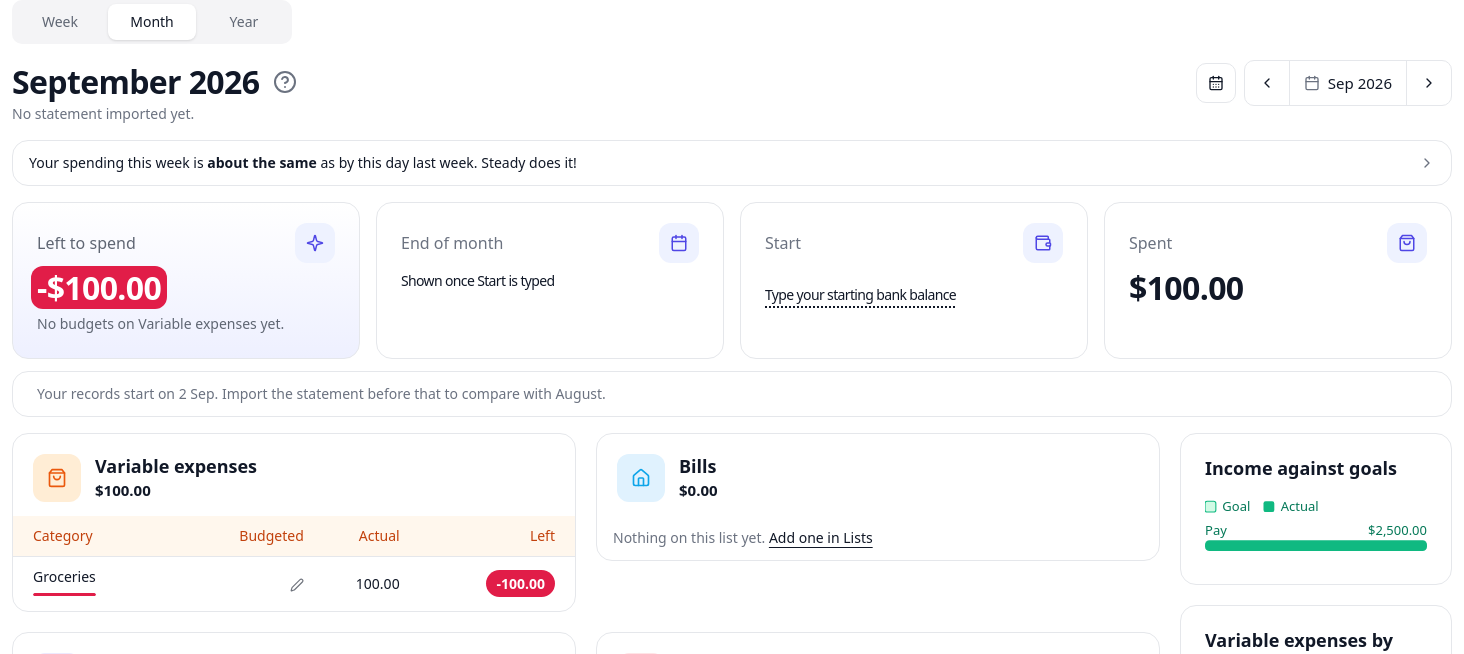
Test: Typing the starting balance on the Month › types an overdrawn start with the tick box, and opens one again that way
This screenshot has width=1464, height=654.
Click the button with aria-label "Starting balance for September, " at [860, 293], box [765,281,956,304]
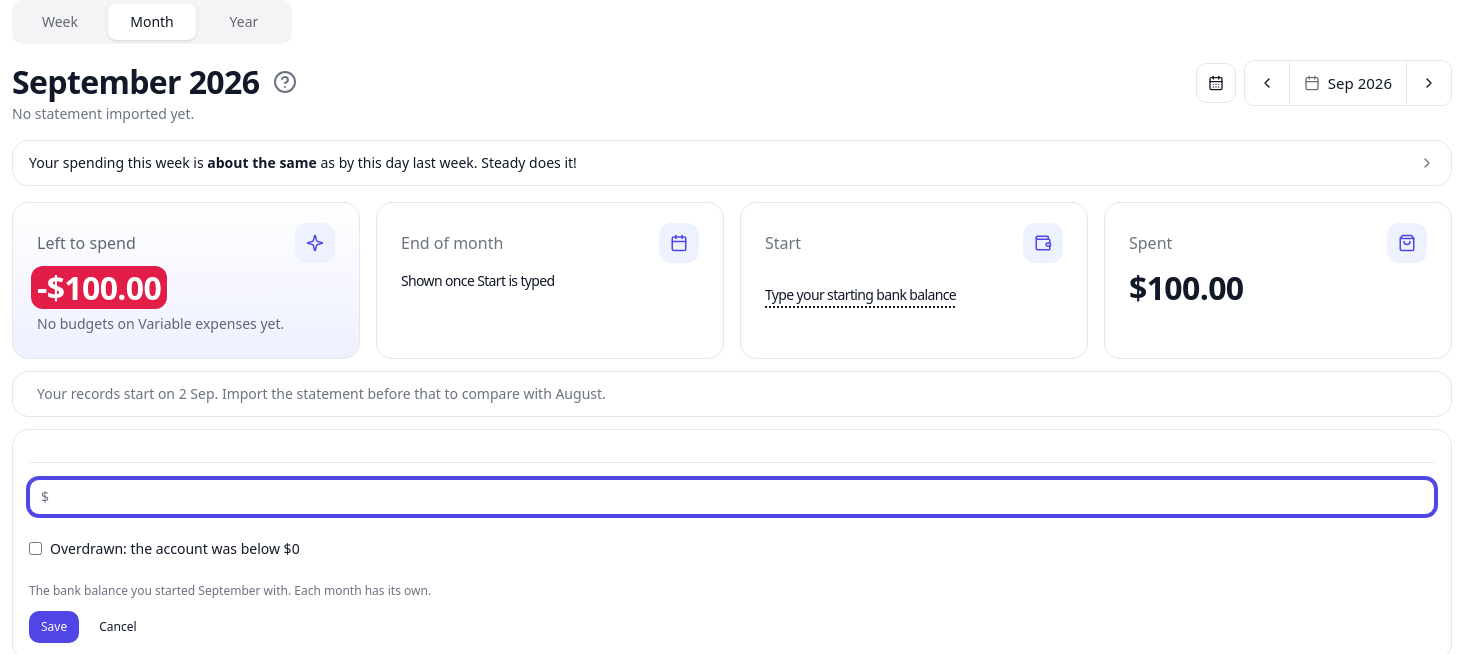
Type "150" into the field named "Starting bank balance for September" at [732, 497], box [29,479,1435,515]
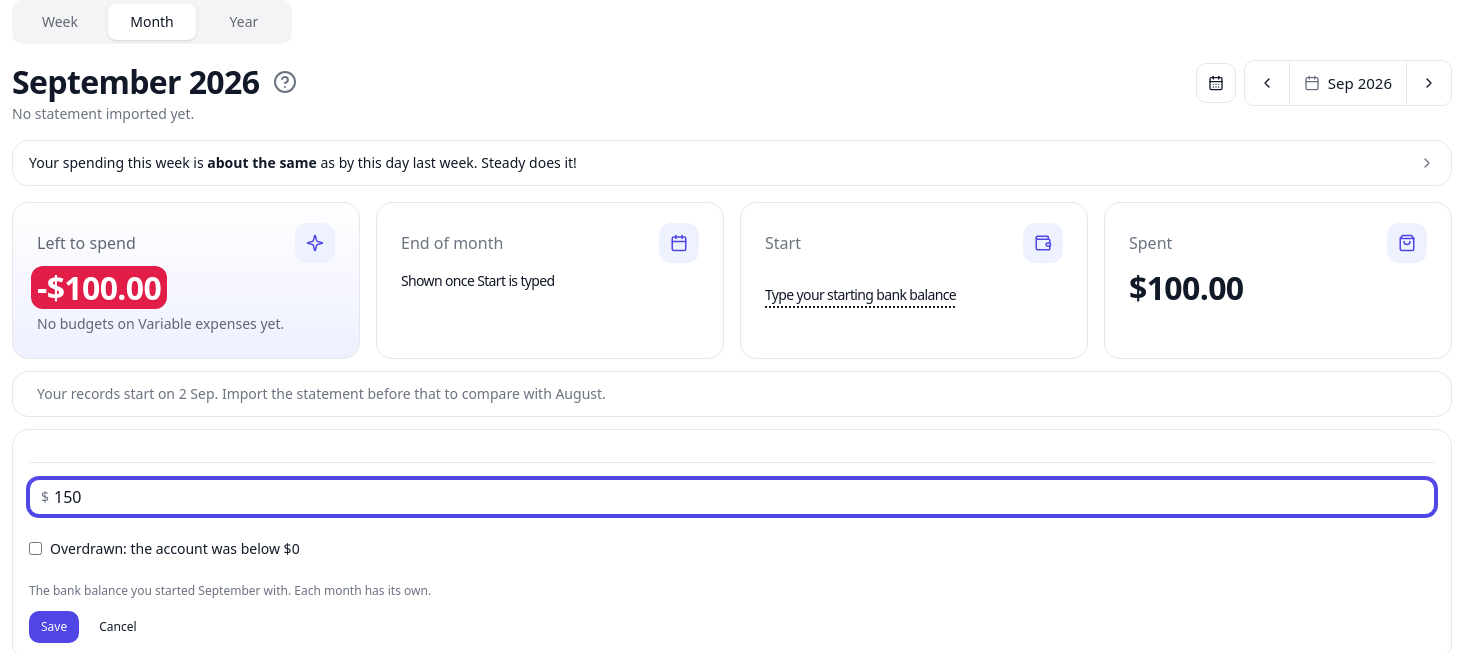
Click the checkbox labelled "Overdrawn: the account was below $0" at [36, 549], box [29,542,42,555]
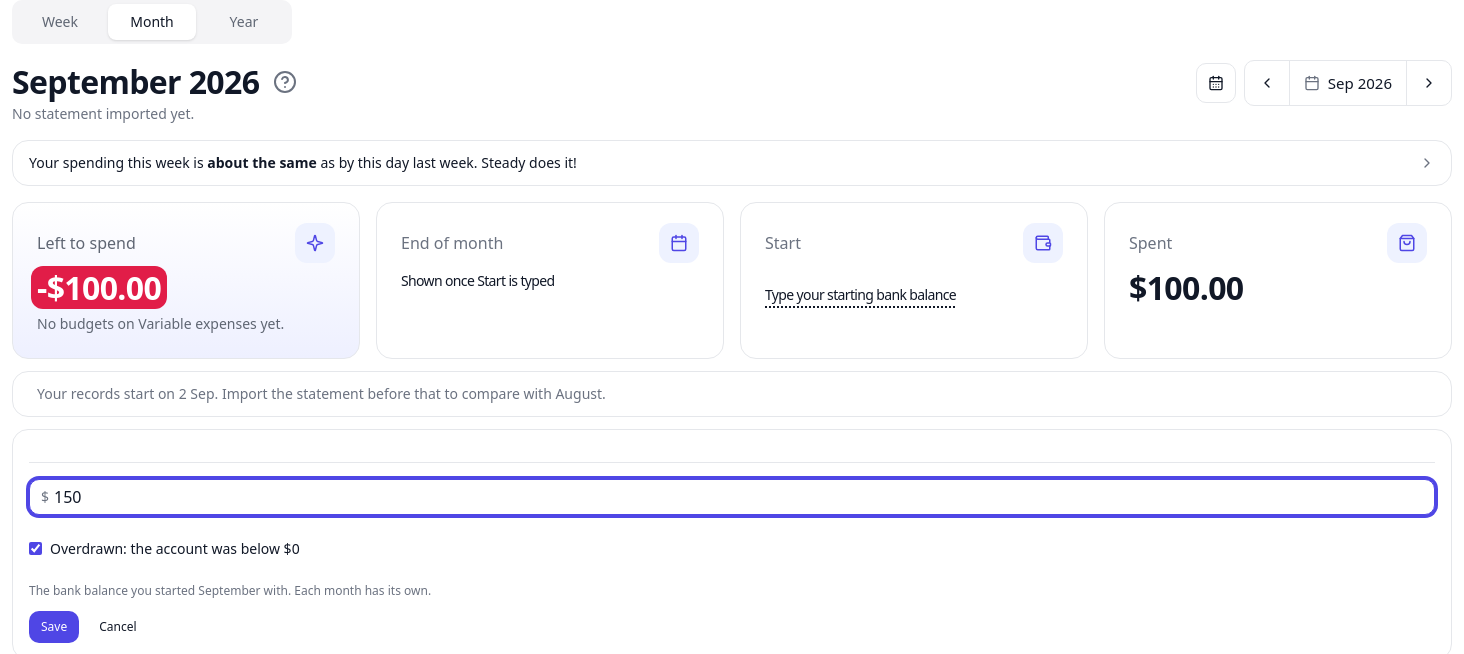
Click the button "Save" at [54, 627], box [29,611,79,643]
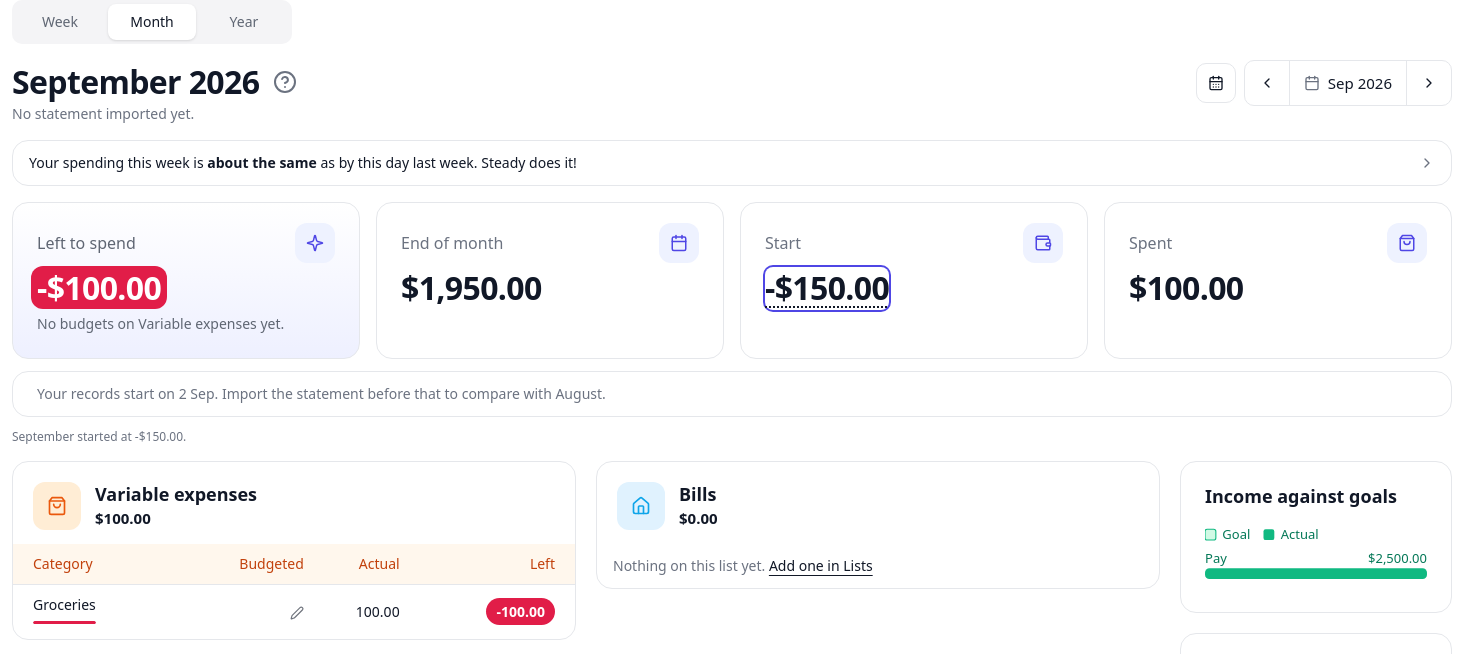
Click the button named "Starting balance for September, -$150.00" at [827, 288], box [765,267,889,310]
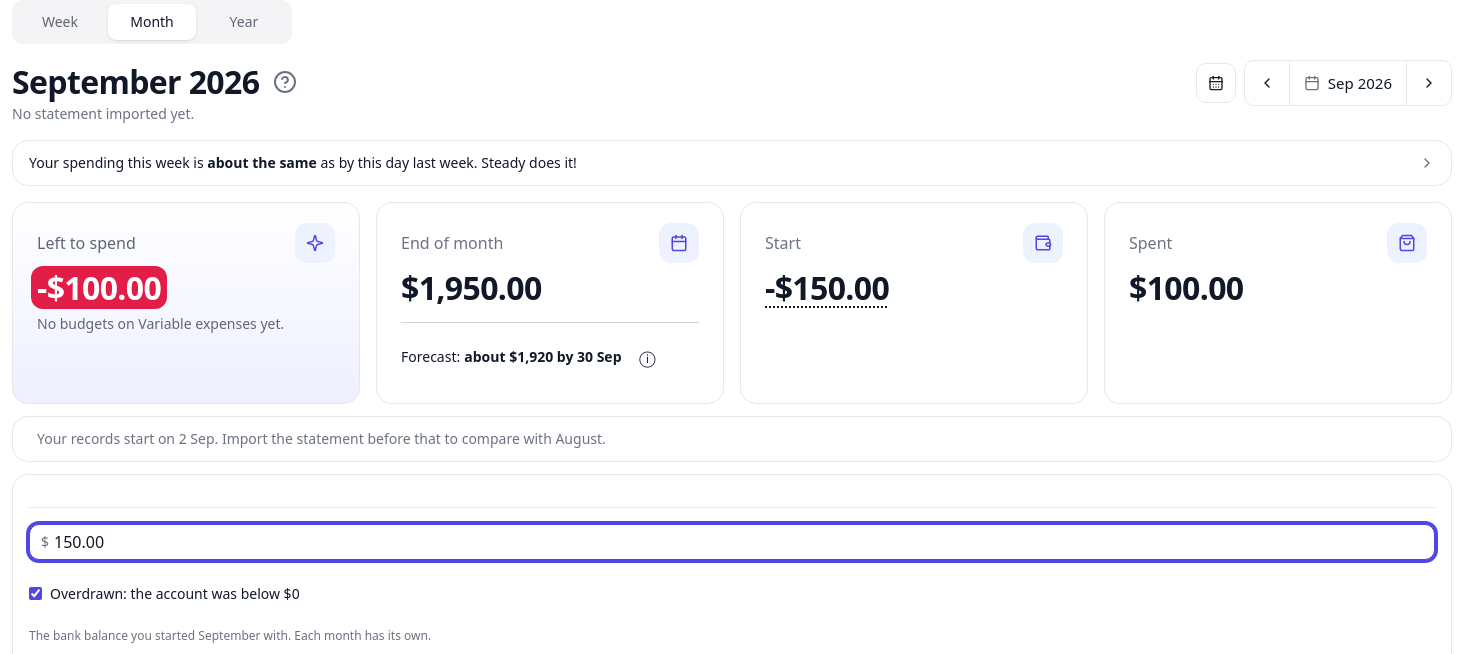
Now the field named "Starting bank balance for September" holds "150.00", box [29,524,1435,560]
Now the checkbox labelled "Overdrawn: the account was below $0" is checked, box [29,587,42,600]
